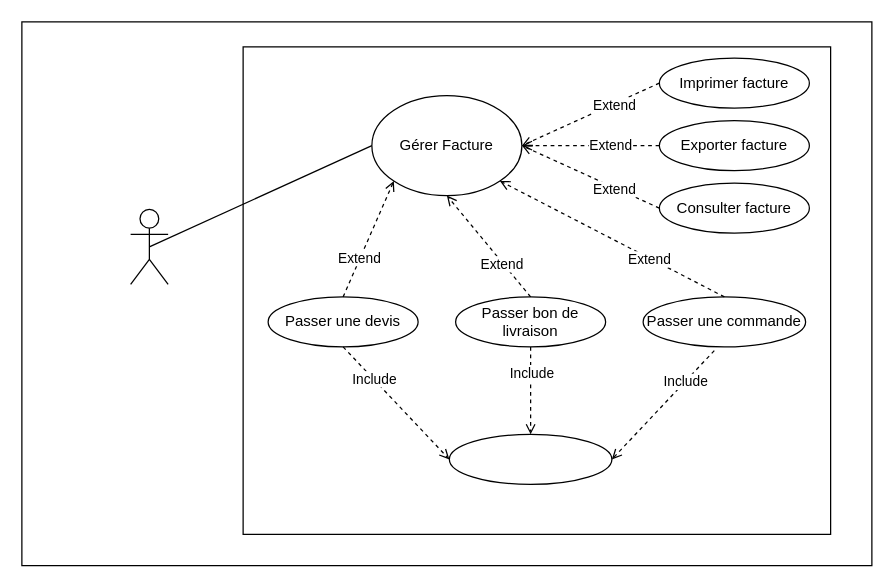
Image size: 894x588. Some labels were removed from this diagram. Each missing label, with the centre of its shape:
"Responsable société" belongs at (x=148, y=246).
"Valider" belongs at (x=530, y=458).
